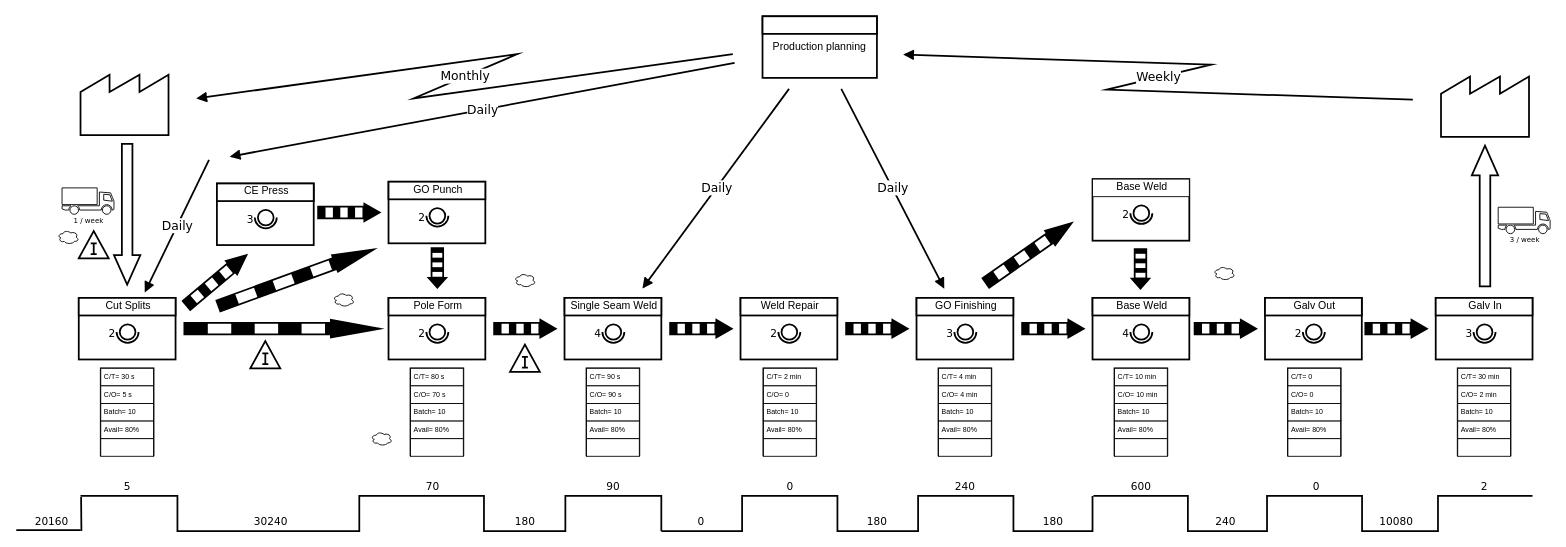
This 1566x547 diagram has some shape labels left out. Here are the shapes that lost their labels. From the top down, the box of each, then its label:
(761, 15, 877, 34): Sales & Ops. Planning
(79, 72, 169, 136): Suppliers
(1440, 74, 1529, 137): Customers
